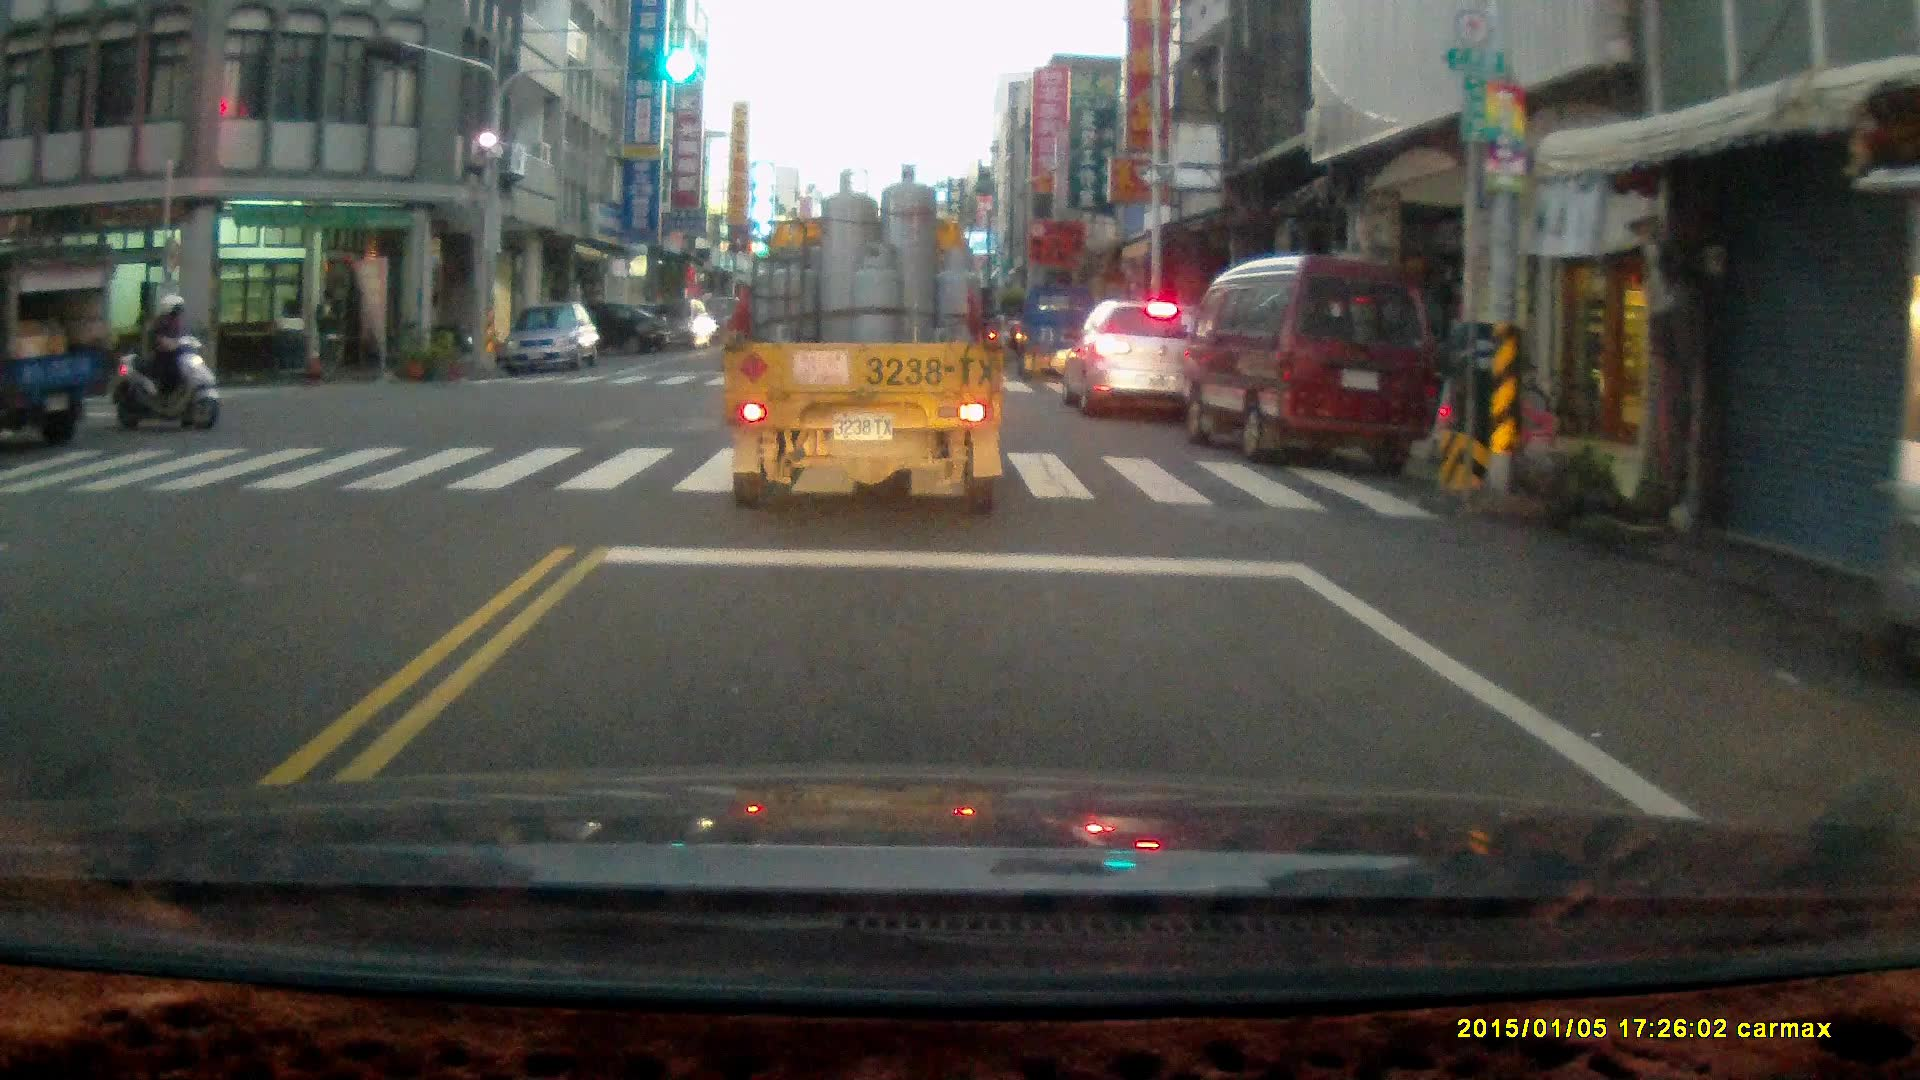pedestrian: (310, 283, 344, 383)
rider: (106, 290, 218, 428)
vehicle: (724, 162, 1012, 513), (1190, 249, 1448, 468), (1, 247, 114, 441), (1065, 289, 1225, 424), (1016, 284, 1101, 385), (500, 302, 602, 383), (537, 298, 669, 359), (628, 297, 715, 349)
